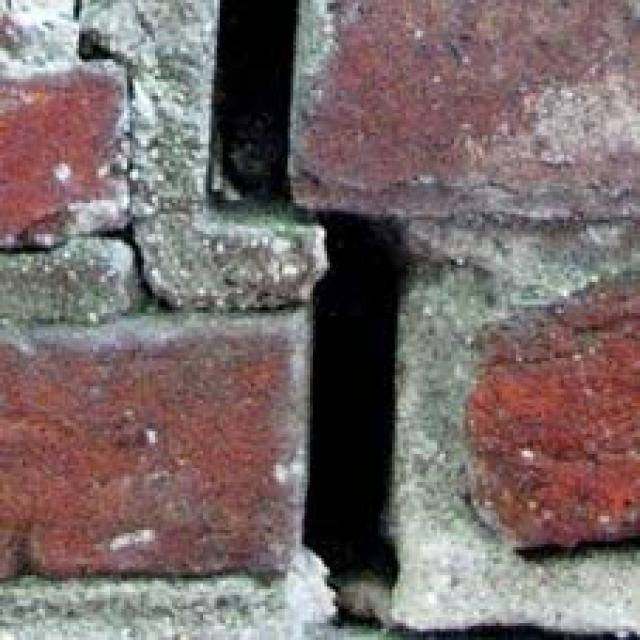Crack: (126, 0, 500, 640)
